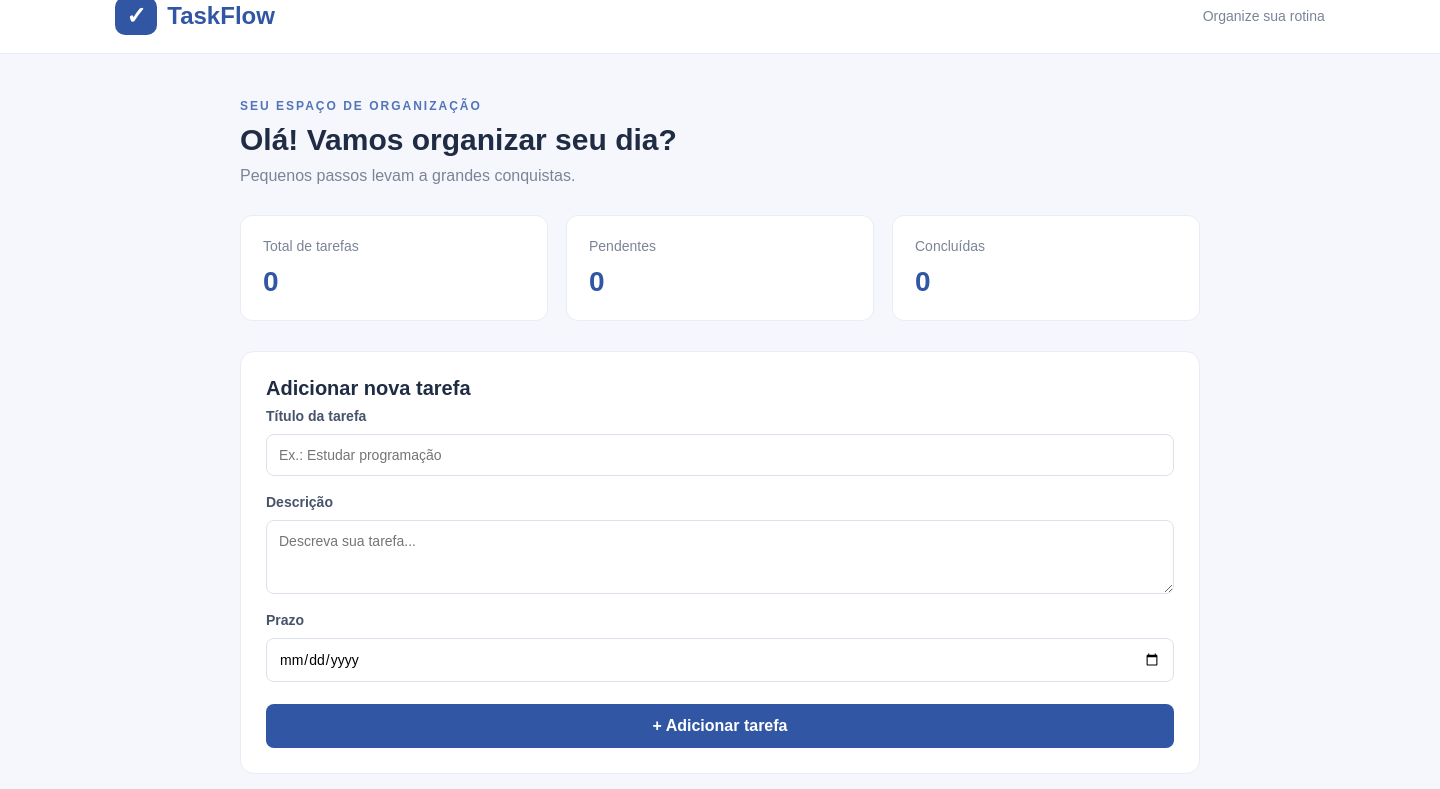
Test: Testes do TaskFlow › deve excluir uma tarefa
Type "Estudar JavaScript" into the field labelled "Título da tarefa" at (720, 455), box x1=266 y1=434 x2=1174 y2=476
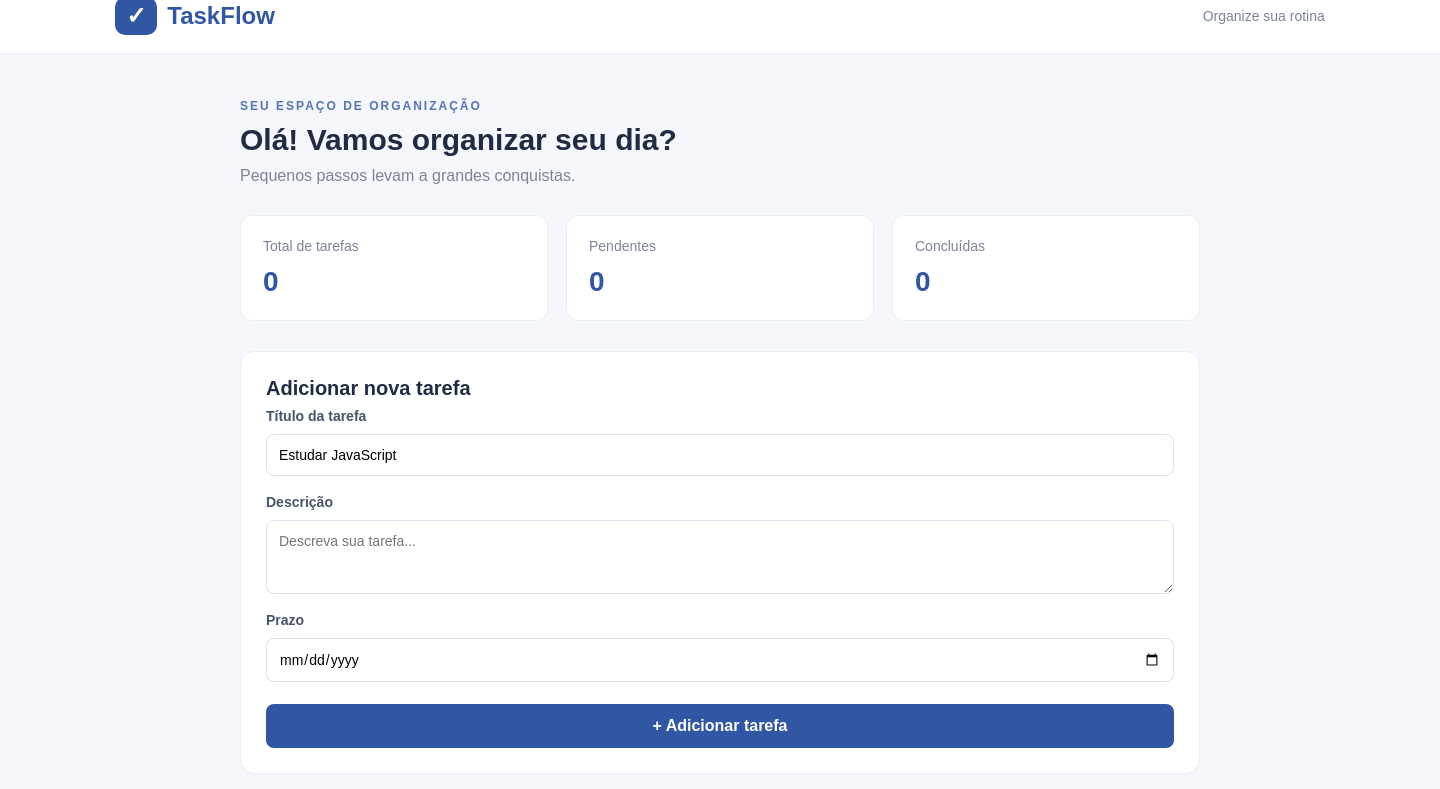
Click the button "+ Adicionar tarefa" at (720, 726), box x1=266 y1=704 x2=1174 y2=748
(page scrolled)
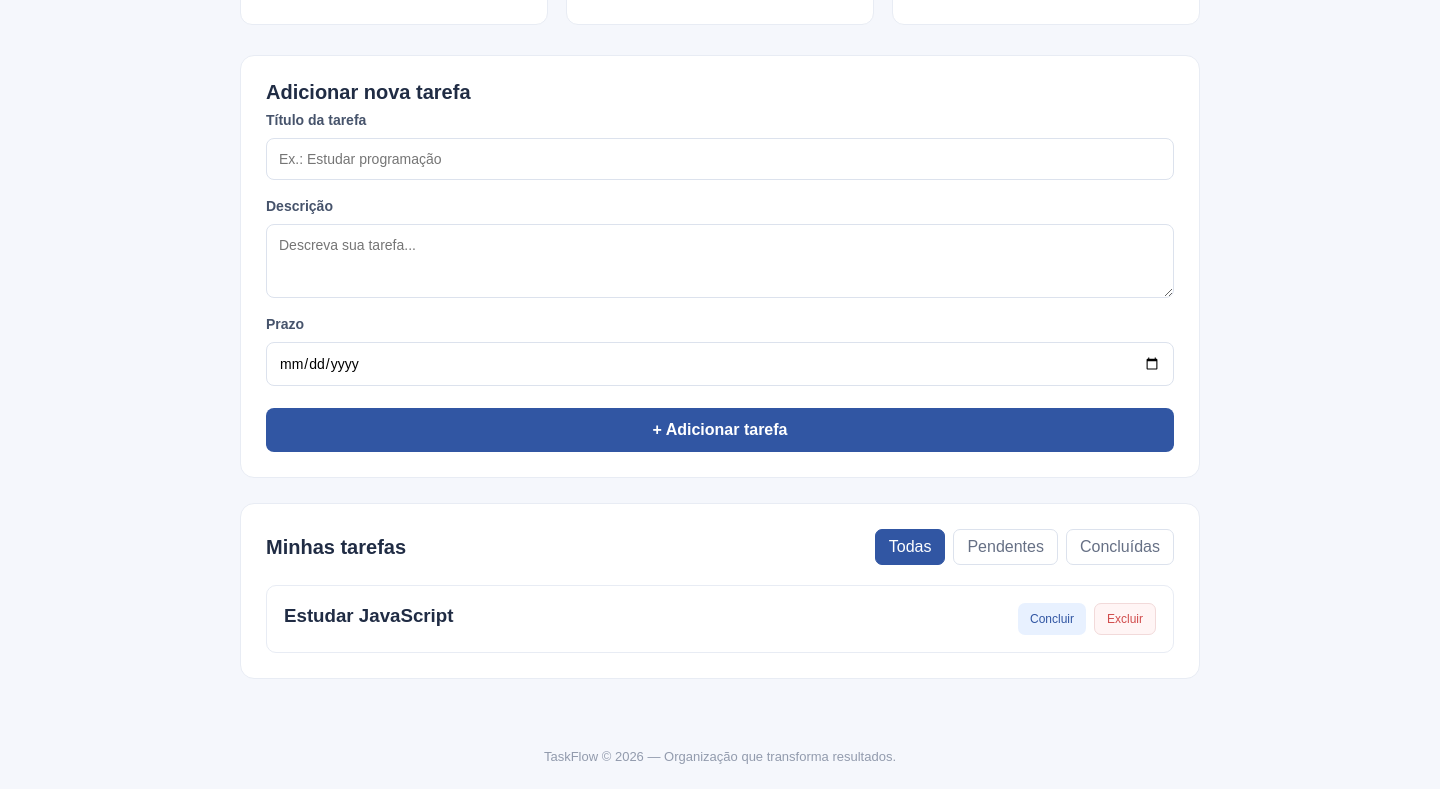
Click the button with aria-label "Excluir Estudar JavaScript" at (1125, 619), box x1=1094 y1=603 x2=1156 y2=635
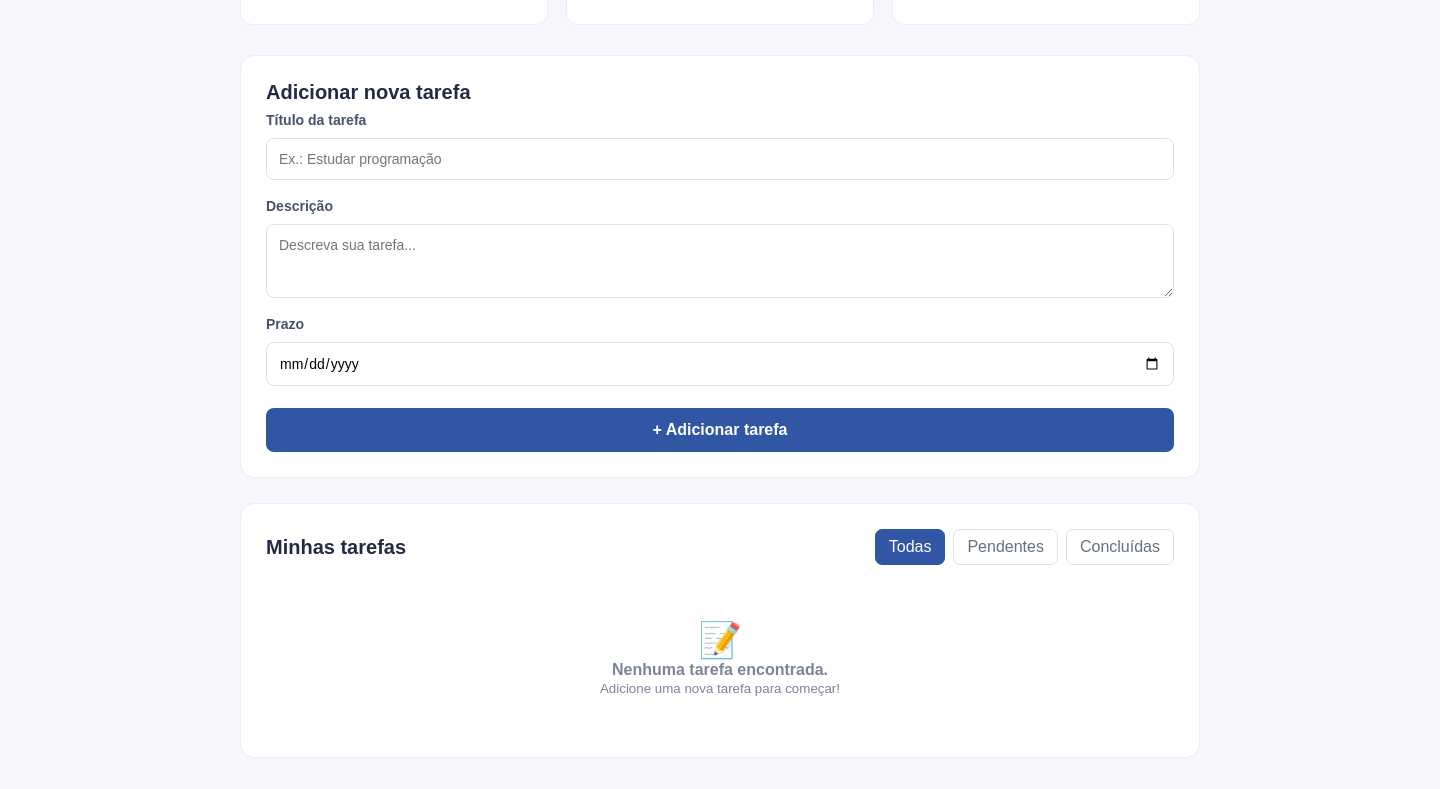
Expected: the heading "Estudar JavaScript" is gone
